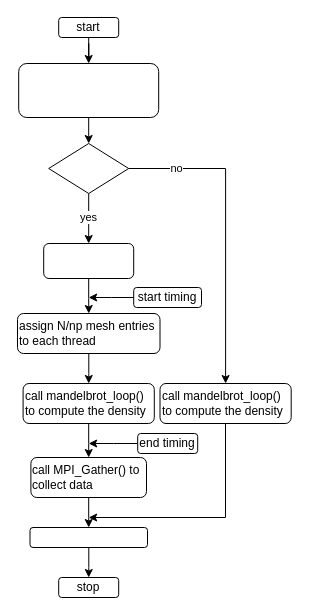
Some shapes in this 309 by 615 pixel diagram are drawn without their labels. Here are the shapes that lost their labels. From the top down, the box of each, then its label:
(18, 62, 159, 118): initialization: set x and y range, image resulution, inialize a mesh
(48, 142, 129, 194): np > 1?
(43, 242, 134, 278): parallel program
(29, 526, 148, 548): plot image, save data
